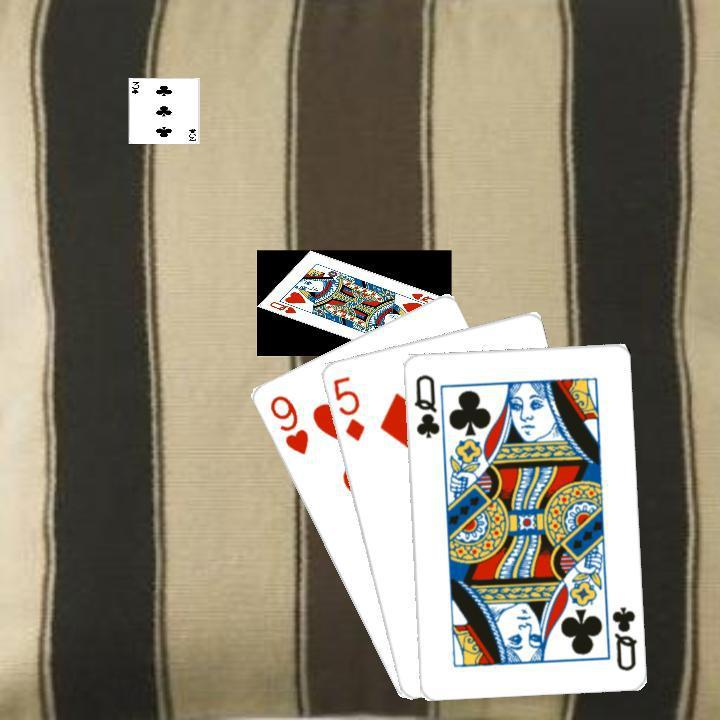5: (328, 371, 367, 443)
9: (265, 390, 310, 457)
Q: (409, 370, 441, 440), (607, 602, 638, 672)
